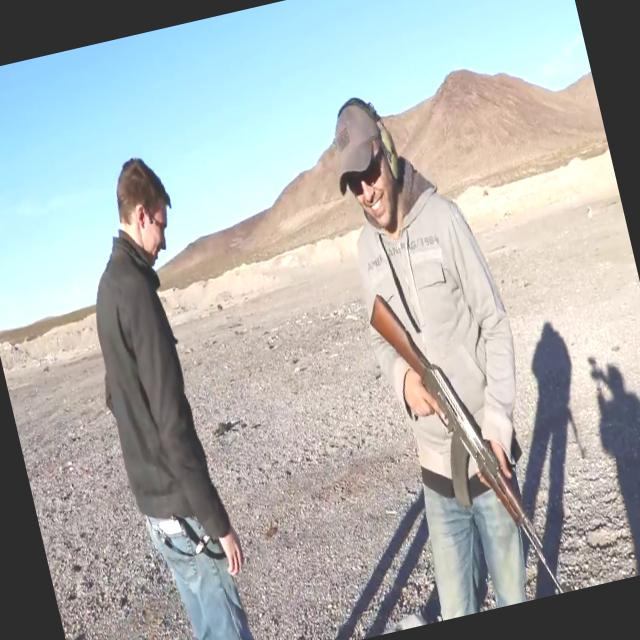long weapon: (358, 266, 584, 622)
